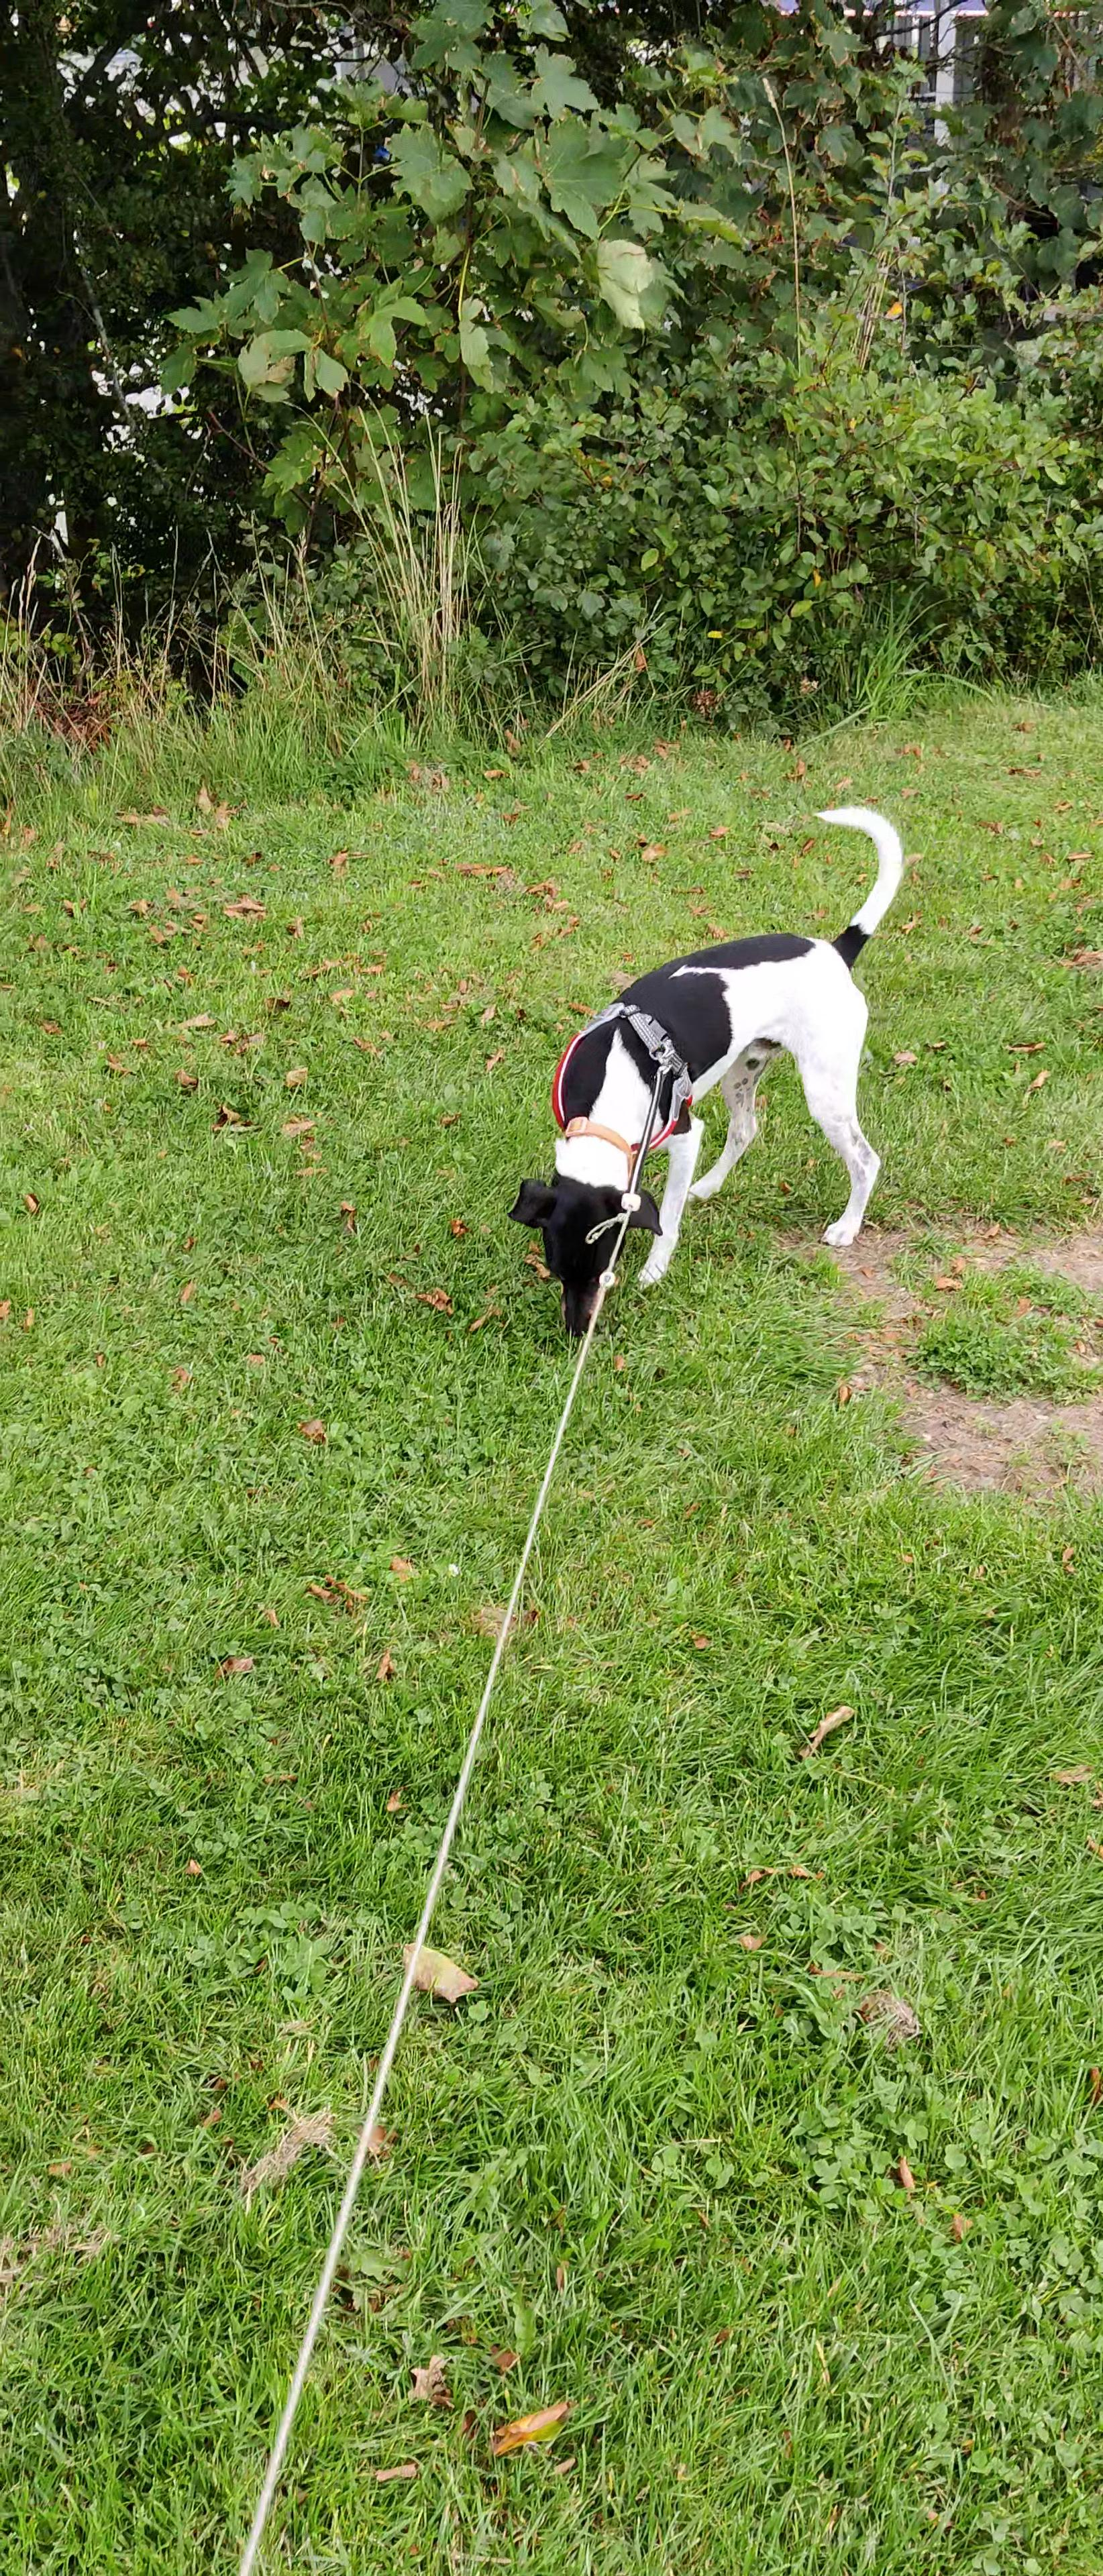Dog: (493, 784, 924, 1365)
